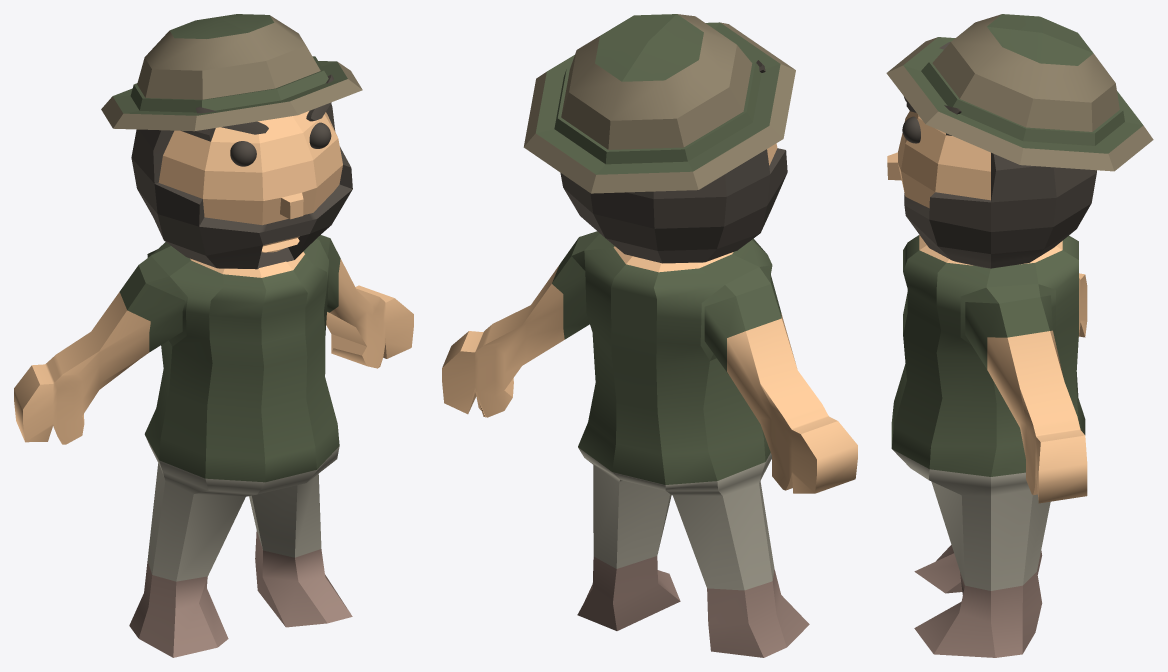
File: Enemigo 1.fbx
3 renders of one model, left to right at view 1: azimuth 30°, elevation 25°; view 2: azimuth 150°, elevation 25°; view 3: azimuth 270°, elevation 25°, orthographic. The views are drawn at different scales.
Parts seen in each view (by area): view 1: polySurface6; view 2: polySurface6; view 3: polySurface6.
Boxes of the visible parts, x1,y1,x2,y2 form: polySurface6: (14, 14, 413, 657); polySurface6: (442, 14, 857, 657); polySurface6: (886, 14, 1153, 657).
Bounding box in the file's own units: 5.7 × 8.14 × 3.34.
